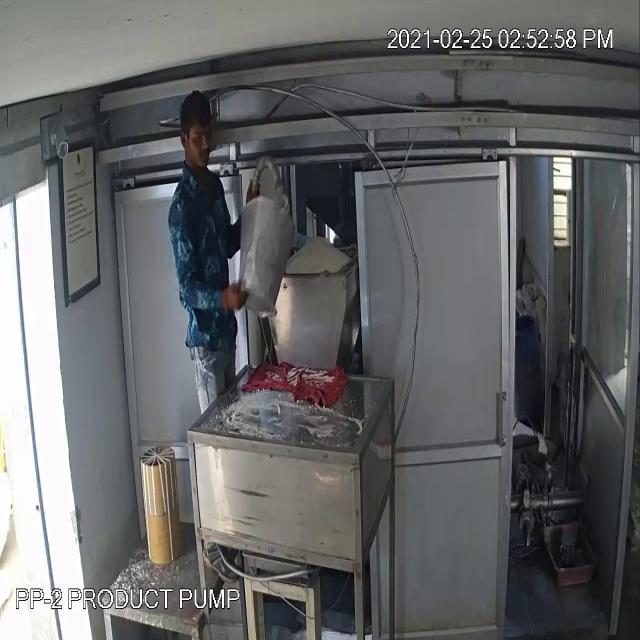no-helmet: (176, 86, 218, 154)
